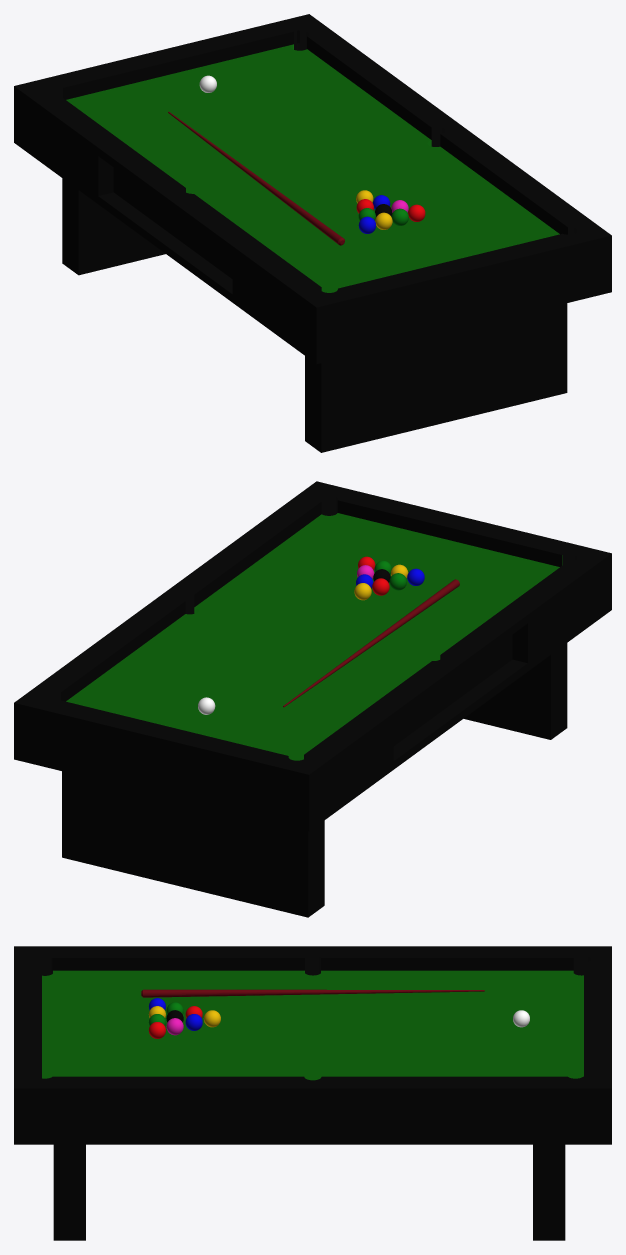
The model's file is pooltable.gltf.
The picture shows the model from 3 angles, top to bottom: view 1: azimuth 30°, elevation 25°; view 2: azimuth 150°, elevation 25°; view 3: azimuth 270°, elevation 25°; orthographic projection.
Parts seen in each view (by area): view 1: Cube.001, Cube.002, Cube, Cylinder; view 2: Cube.001, Cube, Cube.002, Cylinder; view 3: Cube.001, Cube, Cube.002, Cylinder.
Boxes of the visible parts, x1=… form: Cube.001: x1=14, y1=14, x2=611, y2=364; Cube.002: x1=305, y1=303, x2=567, y2=452; Cube: x1=62, y1=178, x2=165, y2=275; Cylinder: x1=168, y1=111, x2=344, y2=245; Cube.001: x1=14, y1=481, x2=611, y2=831; Cube: x1=62, y1=771, x2=324, y2=917; Cube.002: x1=463, y1=643, x2=567, y2=739; Cylinder: x1=283, y1=579, x2=459, y2=707; Cube.001: x1=14, y1=946, x2=611, y2=1144; Cube: x1=533, y1=1144, x2=565, y2=1240; Cube.002: x1=53, y1=1144, x2=85, y2=1240; Cylinder: x1=141, y1=989, x2=484, y2=997.
Size of the model in its own units: 2.4 by 1.34 by 4.26.
